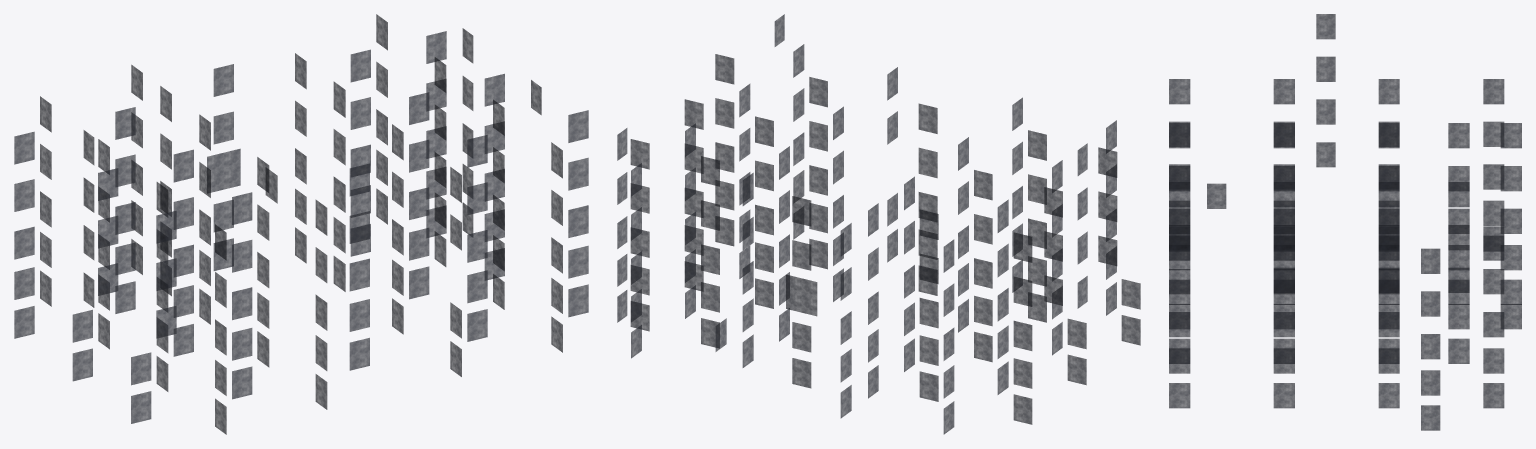
Rendered from manor_doorways.glb.
The picture shows the model from 3 angles, left to right: view 1: azimuth 30°, elevation 25°; view 2: azimuth 150°, elevation 25°; view 3: azimuth 270°, elevation 25°; orthographic projection. The views are drawn at different scales.
Parts seen in each view (by area): view 1: manor_doorways; view 2: manor_doorways; view 3: manor_doorways.
Part boxes in pixels (x1=…): manor_doorways: x1=14, y1=14, x2=588, y2=434; manor_doorways: x1=617, y1=14, x2=1140, y2=434; manor_doorways: x1=1169, y1=14, x2=1521, y2=430.
Bounding box in the file's own units: 54.42 × 28.4 × 40.42.
Materials: 1 (1 with a texture image).
